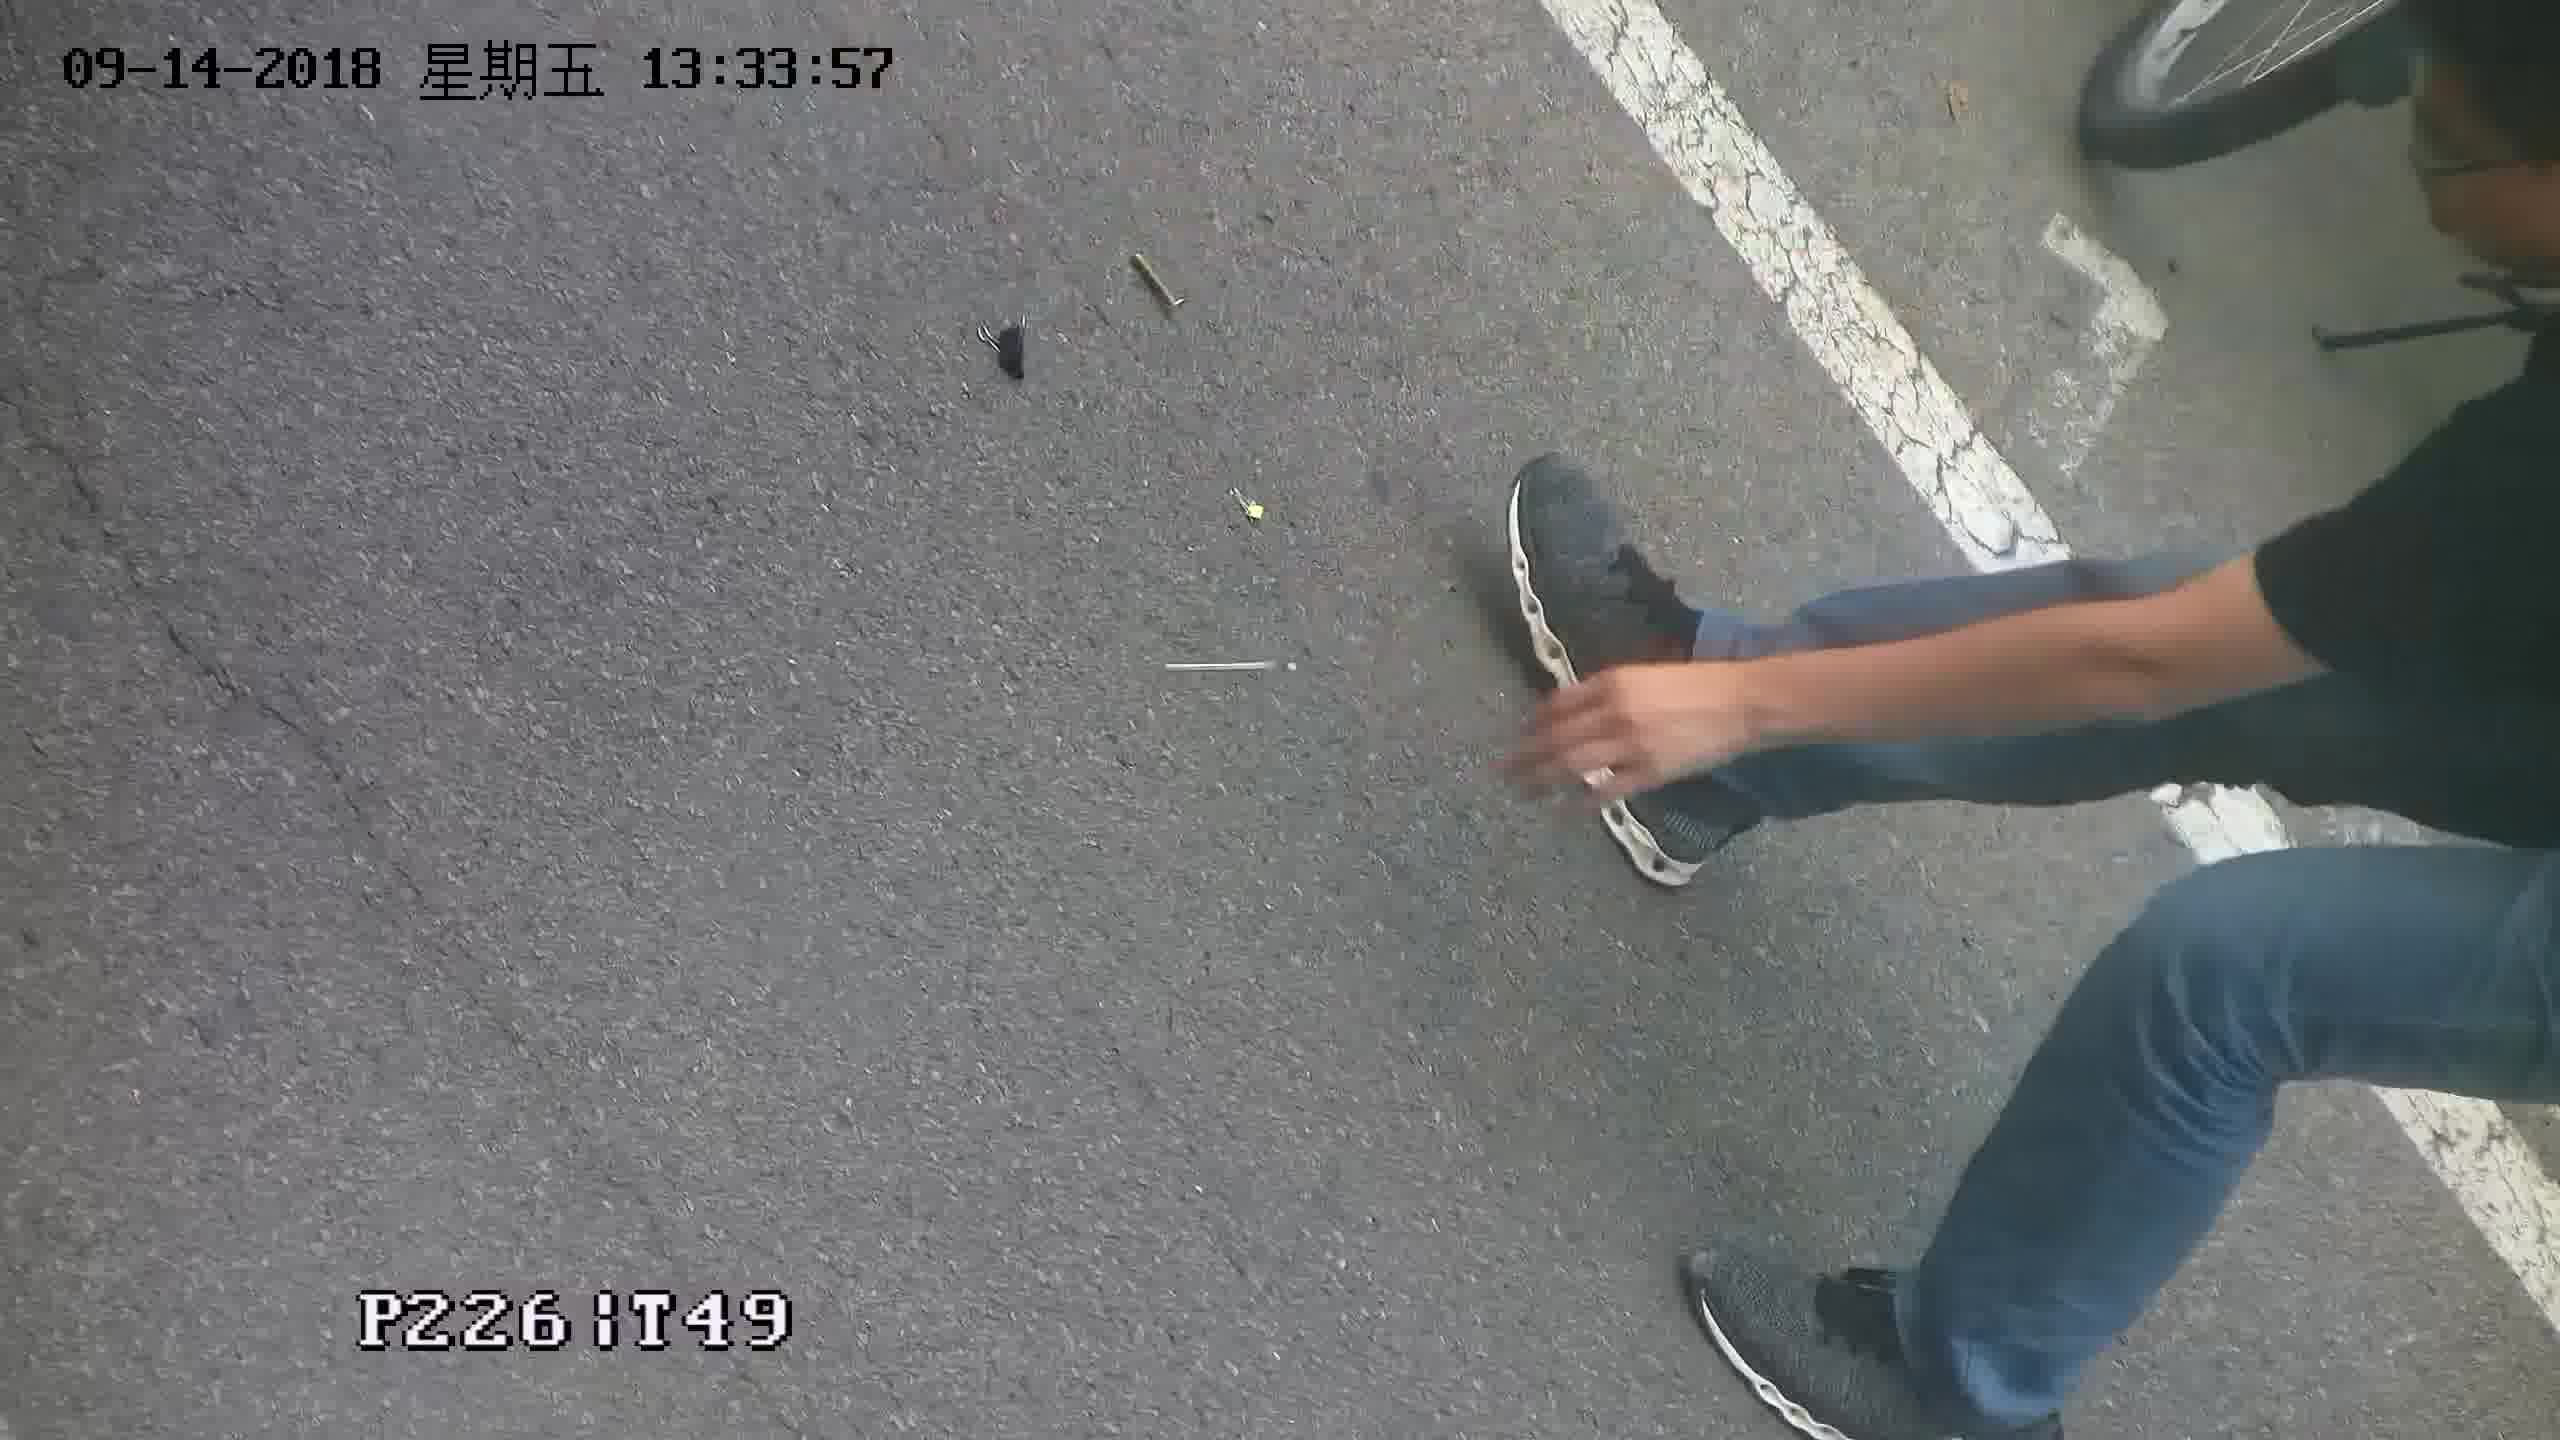clip_B: (972, 316, 1034, 383)
clip_Y: (1225, 478, 1273, 533)
nail: (1122, 243, 1192, 316)
